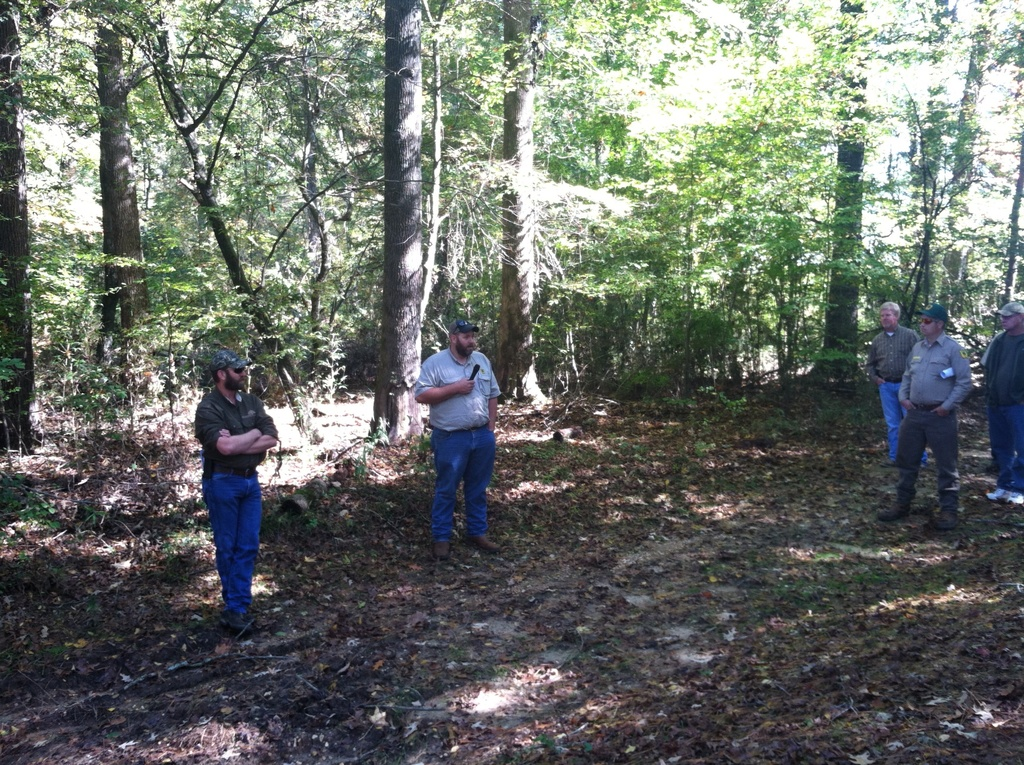Tree: (0, 0, 1023, 449)
